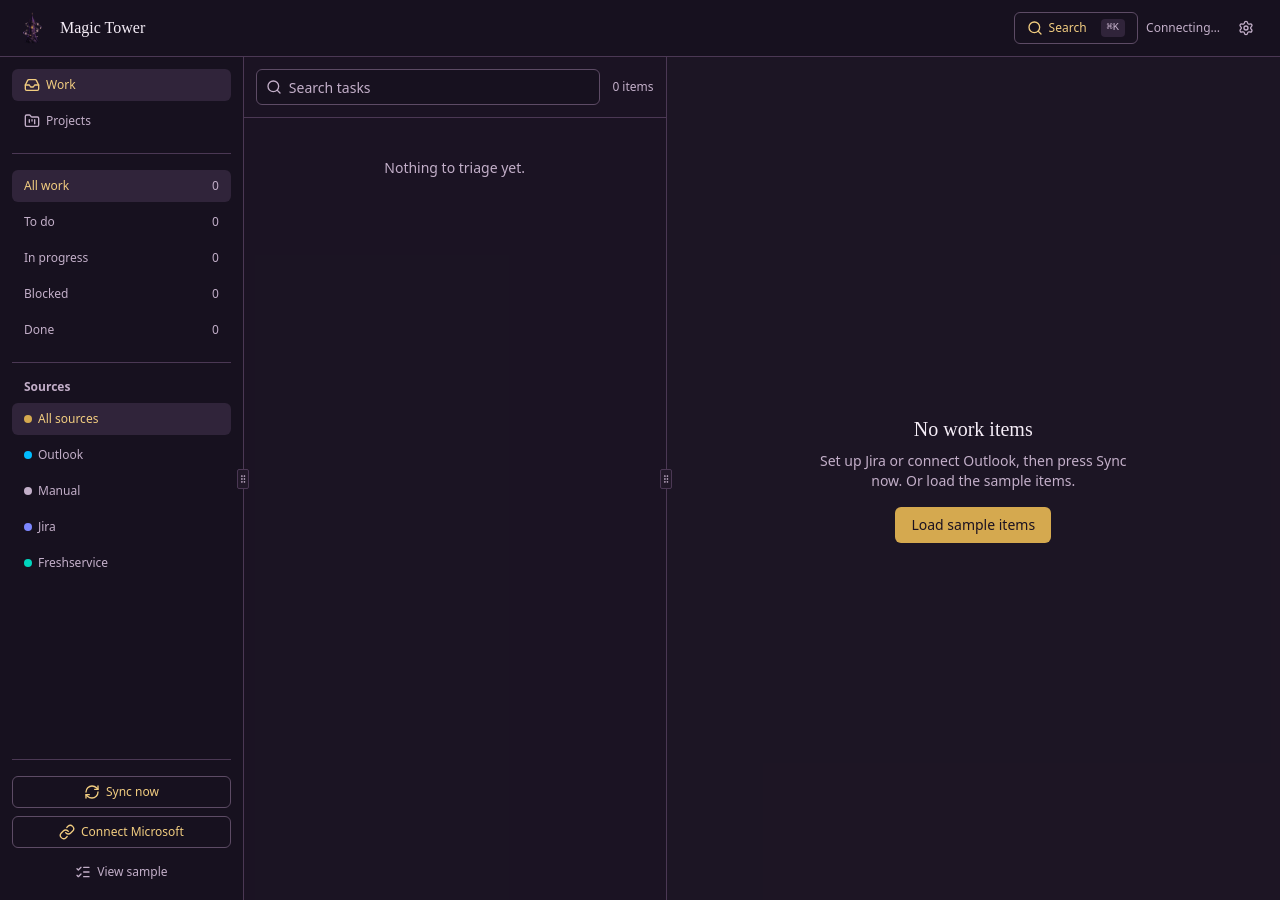
Scenario: Projects view › projects view empty state reads "No projects from grimoire yet."
The image size is (1280, 900).
Click the button "Projects": (121, 121) [12,105,231,137]
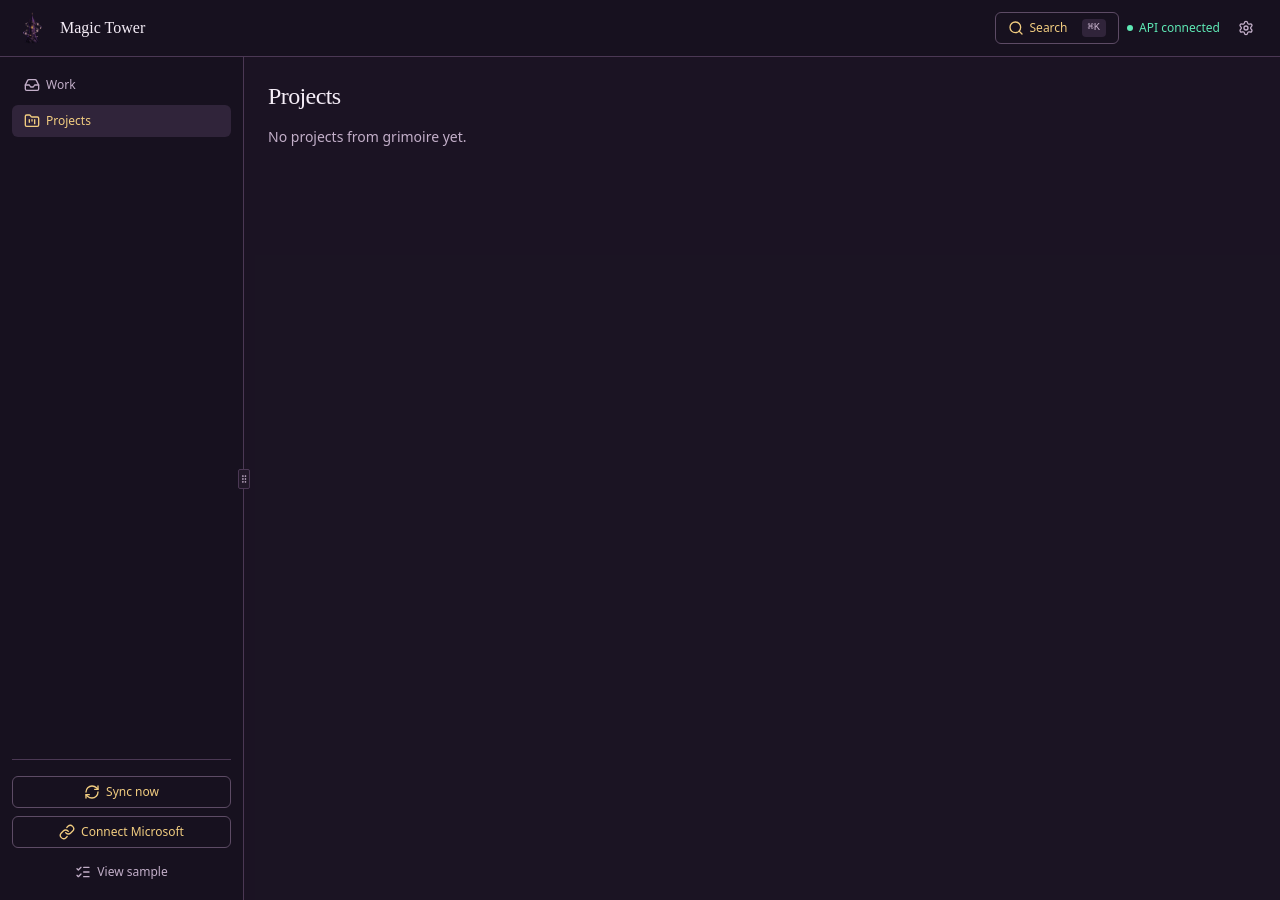
Check: the text "No projects from grimoire yet." is shown, box [268,127,466,146]
